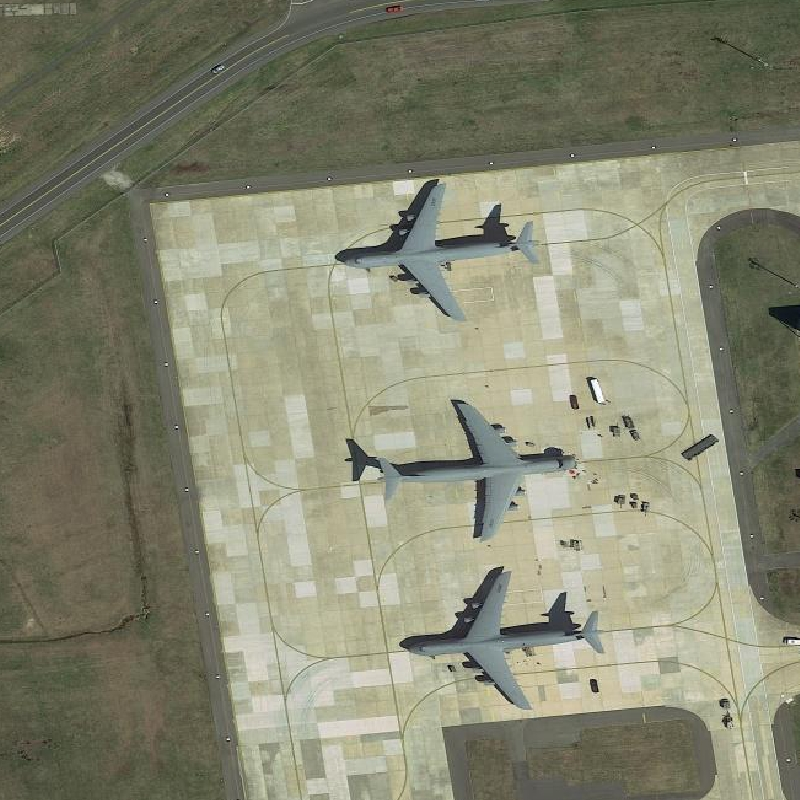A4: (332, 178, 549, 325), (397, 566, 609, 714), (370, 394, 581, 542)
